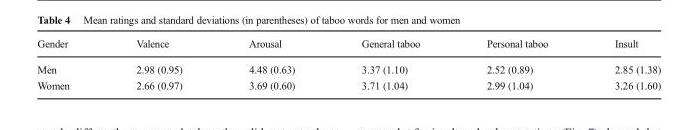table: (36, 37, 660, 90)
table column: (452, 37, 580, 90), (327, 37, 452, 90), (214, 37, 327, 90), (102, 37, 214, 90), (580, 37, 660, 90), (36, 37, 102, 90)
table column header: (36, 37, 660, 55)
table row: (36, 55, 660, 76), (36, 37, 660, 55), (36, 76, 660, 90)
